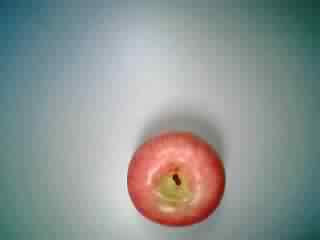apple: (123, 131, 227, 232)
